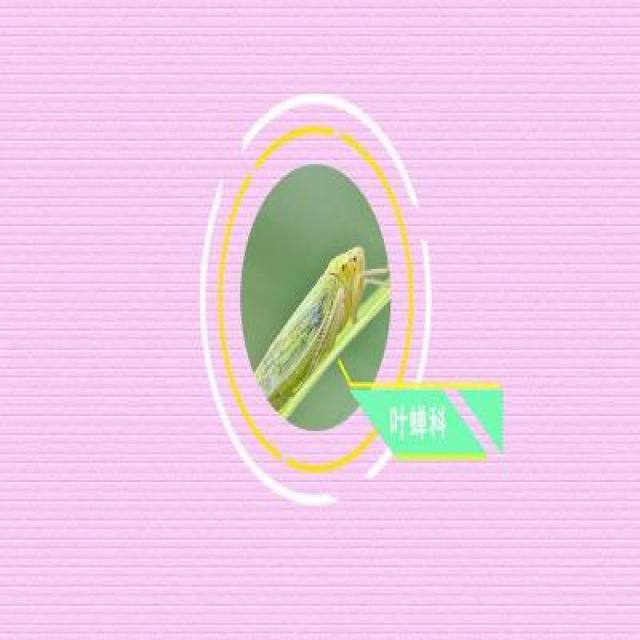Yechan: (249, 241, 382, 414)
